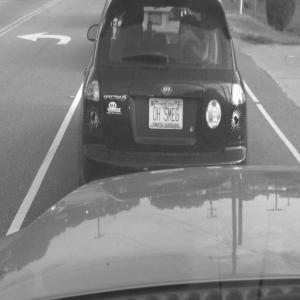Plate: (149, 97, 183, 129)
